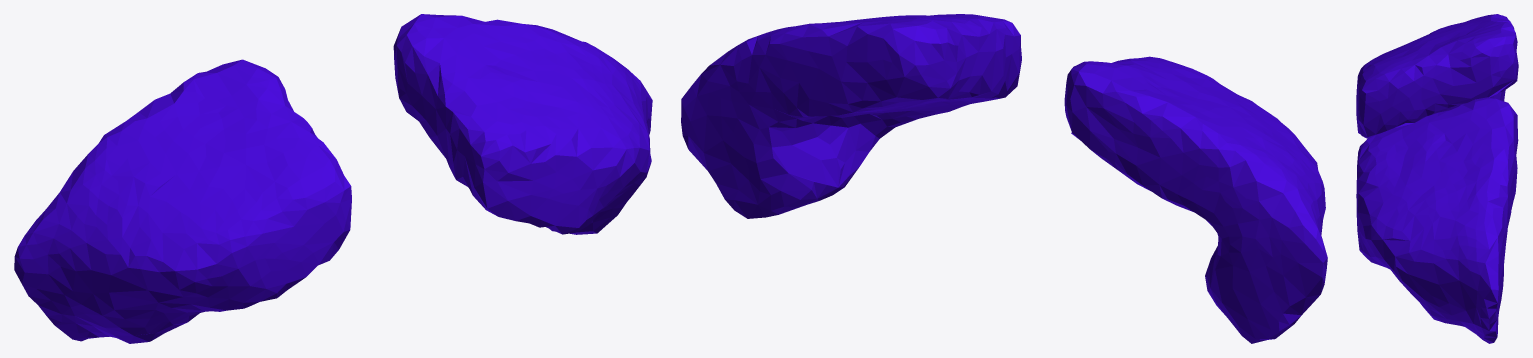
The model's file is 42-6DR(F7)-area 6 of cortex, dorsorostral part (Matellis F7)-('0.3059', '0.0000', '1.0000').obj.
3 views of the same model, side by side, from view 1: azimuth 30°, elevation 25°; view 2: azimuth 150°, elevation 25°; view 3: azimuth 270°, elevation 25° (orthographic). The views are drawn at different scales.
Bounding box in the file's own units: 178 × 62.64 × 50.88.
